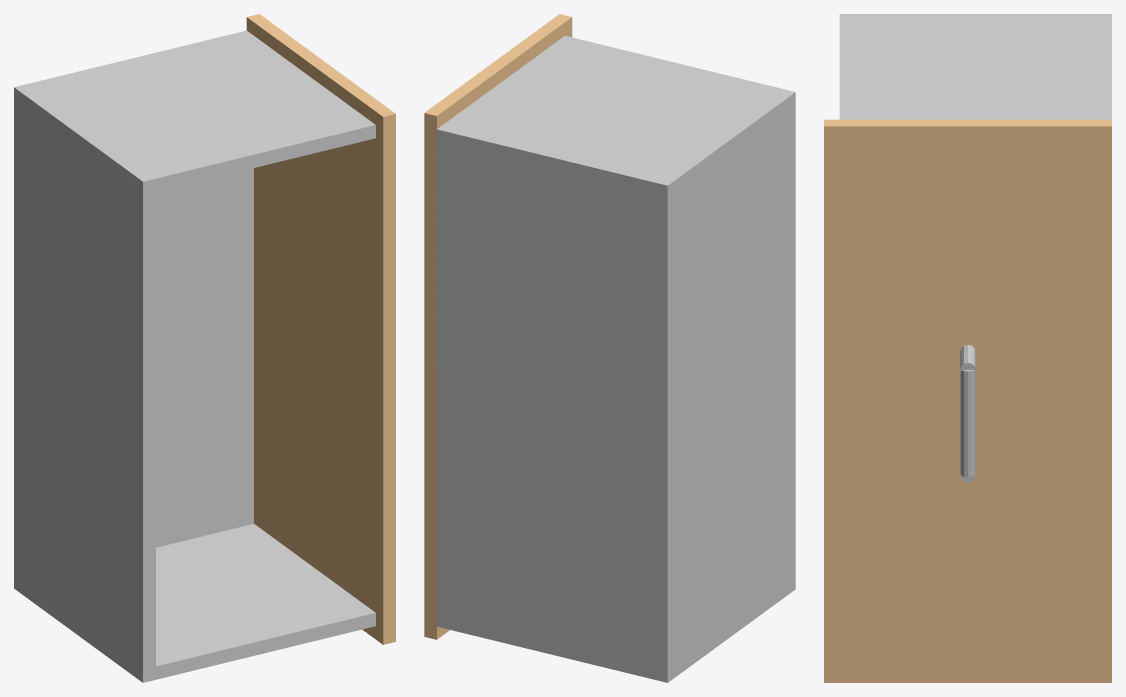
Rendered from SHELF2-BODYSET6_link_mesh.dae.
3 renders of one model, left to right at view 1: azimuth 30°, elevation 25°; view 2: azimuth 150°, elevation 25°; view 3: azimuth 270°, elevation 25°, orthographic. The views are drawn at different scales.
Parts seen in each view (by area): view 1: SHELF2-BODYSET6_link (×2); view 2: SHELF2-BODYSET6_link (×2); view 3: SHELF2-BODYSET6_link (×3).
Part boxes in pixels (x1=…): SHELF2-BODYSET6_link (×2): x1=14, y1=14, x2=395, y2=682; SHELF2-BODYSET6_link (×2): x1=424, y1=14, x2=795, y2=682; SHELF2-BODYSET6_link (×3): x1=824, y1=14, x2=1111, y2=682.
Bounding box in the file's own units: 0.4445 × 0.79 × 0.37.
